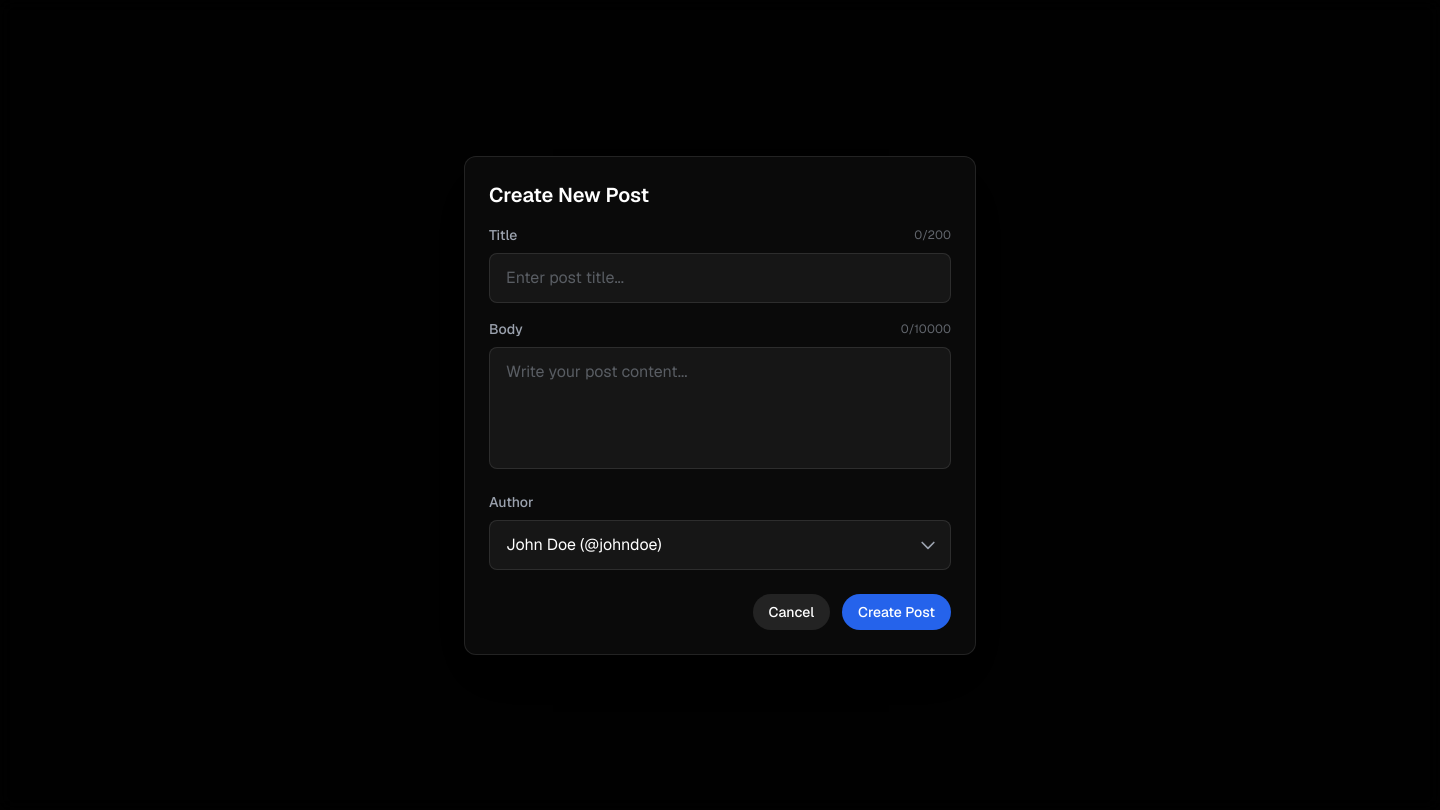
Scenario: PostFormModal Validation › Create Mode › should show all validation errors on submit with invalid data
This screenshot has width=1440, height=810.
Check: the dropdown labelled "Author" is shown, box [489,520,951,570]
What coordinates should you click on to do the following:
click the button "Create Post"
I would click on:
 (897, 612)
Its box is [842,594,951,630].
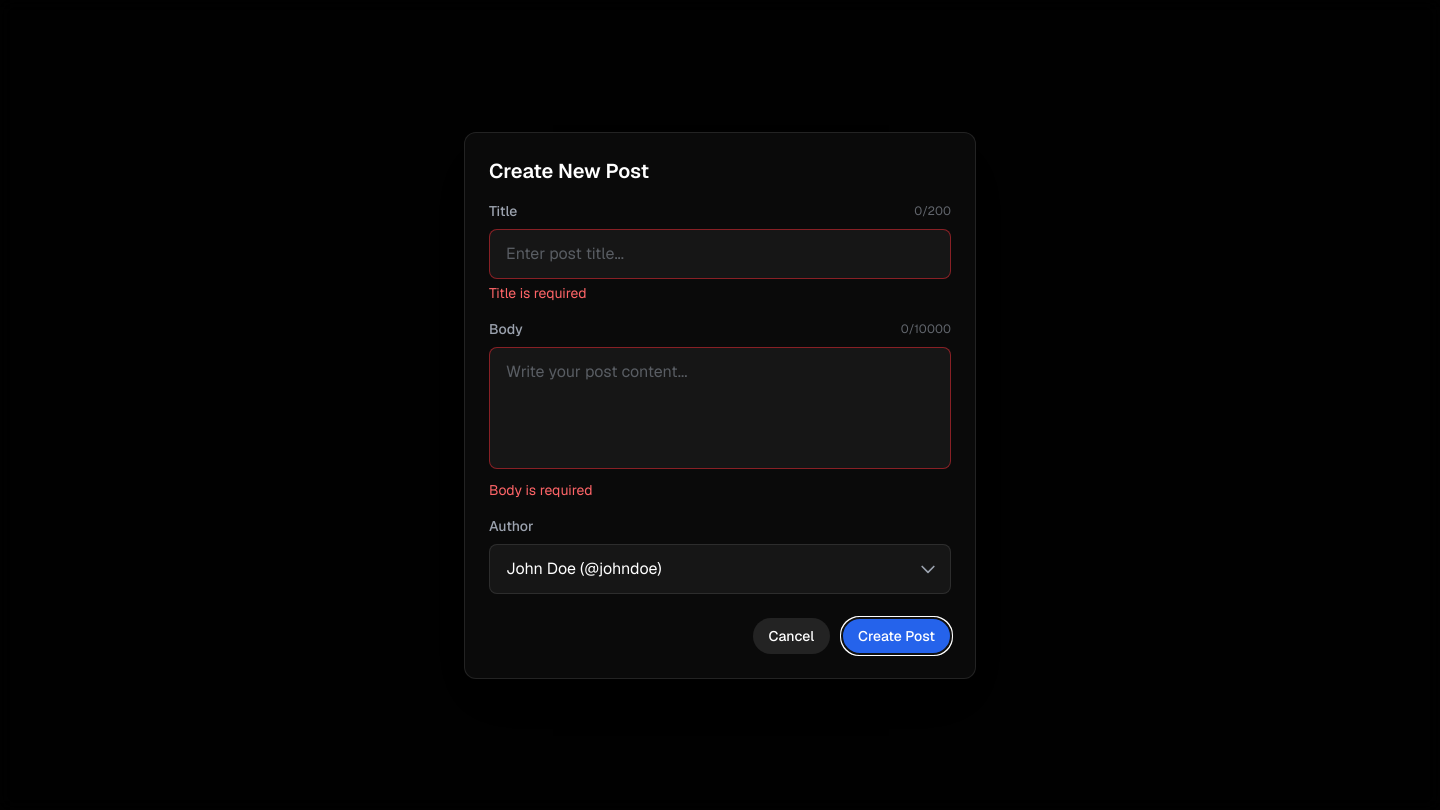
Check: the text "Title is required" is shown, box [489,284,587,302]
Check: the text "Body is required" is shown, box [489,480,593,498]
